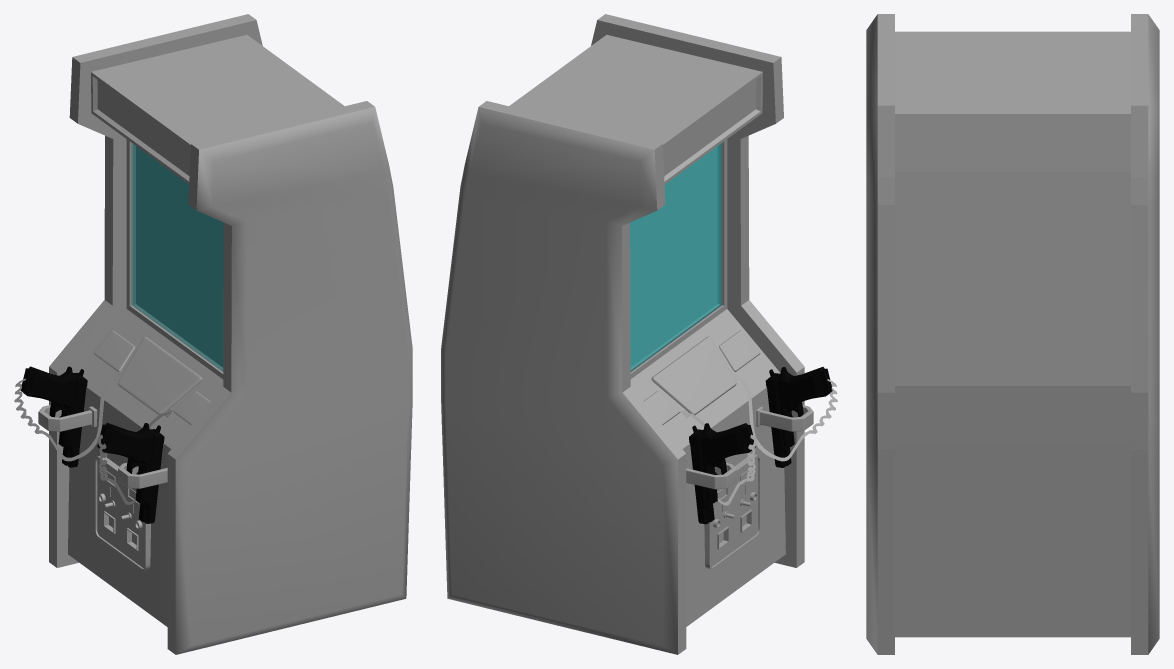
Rendered from Indoor Machine.fbx.
3 renders of one model, left to right at view 1: azimuth 30°, elevation 25°; view 2: azimuth 150°, elevation 25°; view 3: azimuth 270°, elevation 25°, orthographic. The views are drawn at different scales.
Visible parts, largest first — view 1: IndoorGun_Machine2, Body3, Body2, cock2, cock3; view 2: IndoorGun_Machine2, Body3, Body2, cock3, cock2; view 3: IndoorGun_Machine2.
Boxes of the visible parts, box(x1,y1,x2,y2) form: IndoorGun_Machine2: box(14, 14, 412, 654); Body3: box(23, 366, 76, 446); Body2: box(102, 422, 153, 502); cock2: box(138, 425, 164, 523); cock3: box(62, 369, 87, 467); IndoorGun_Machine2: box(441, 14, 837, 654); Body3: box(700, 423, 751, 503); Body2: box(777, 367, 829, 446); cock3: box(689, 425, 714, 524); cock2: box(765, 369, 791, 467); IndoorGun_Machine2: box(866, 14, 1159, 654).
Size of the model in its own units: 1.4 by 2.29 by 1.14.
